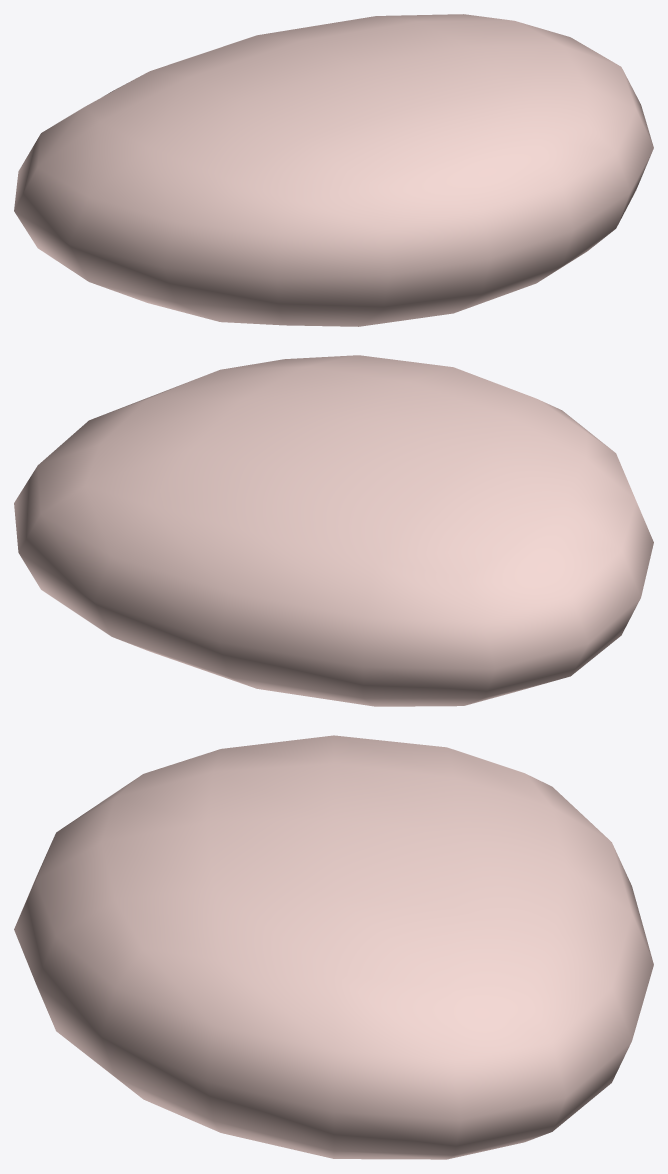
File: chicken_raw.glb
The picture shows the model from 3 angles, top to bottom: view 1: azimuth 30°, elevation 25°; view 2: azimuth 150°, elevation 25°; view 3: azimuth 270°, elevation 25°; orthographic projection. The views are drawn at different scales.
Parts seen in each view (by area): view 1: Chicken_Raw_Fillet; view 2: Chicken_Raw_Fillet; view 3: Chicken_Raw_Fillet.
Part boxes in pixels (left/top/right/bottom): Chicken_Raw_Fillet: left=14, top=14, right=653, bottom=326; Chicken_Raw_Fillet: left=14, top=355, right=653, bottom=706; Chicken_Raw_Fillet: left=14, top=735, right=653, bottom=1159.
Size of the model in its own units: 0.0823 by 0.0294 by 0.0672.
